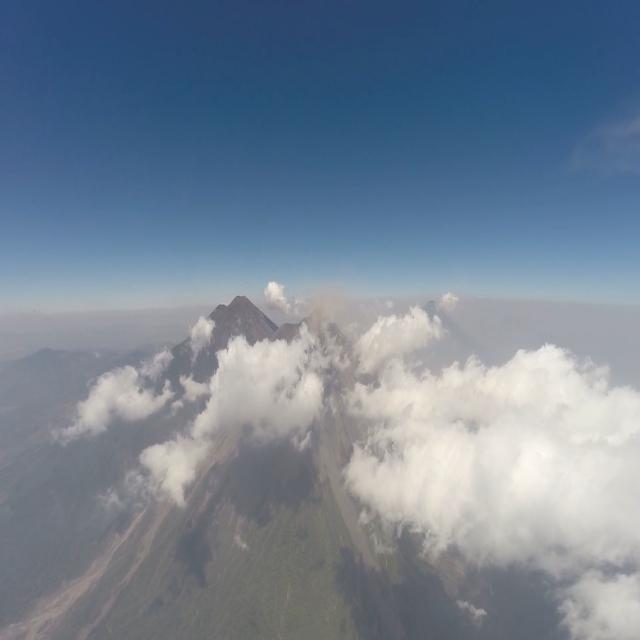Summit: (303, 304, 334, 320)
